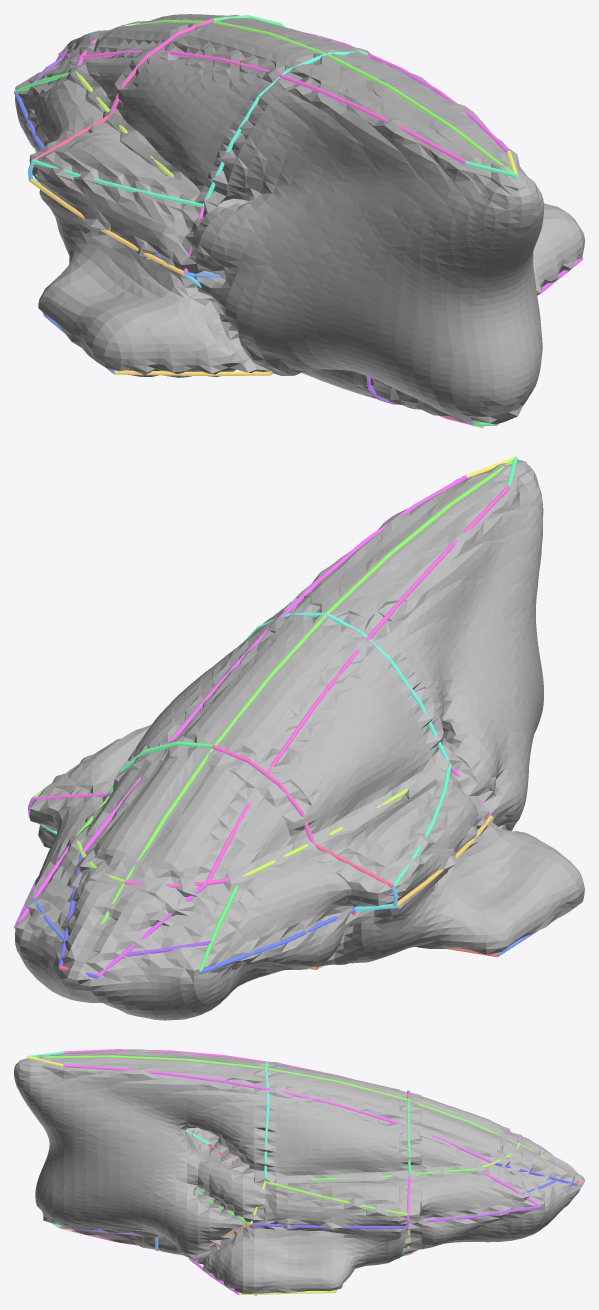
The model's file is ils_spacecraft_78.gltf.
The picture shows the model from 3 angles, top to bottom: view 1: azimuth 30°, elevation 25°; view 2: azimuth 150°, elevation 25°; view 3: azimuth 270°, elevation 25°; orthographic projection. The views are drawn at different scales.
Size of the model in its own units: 0.5164 by 0.3216 by 0.8348.
